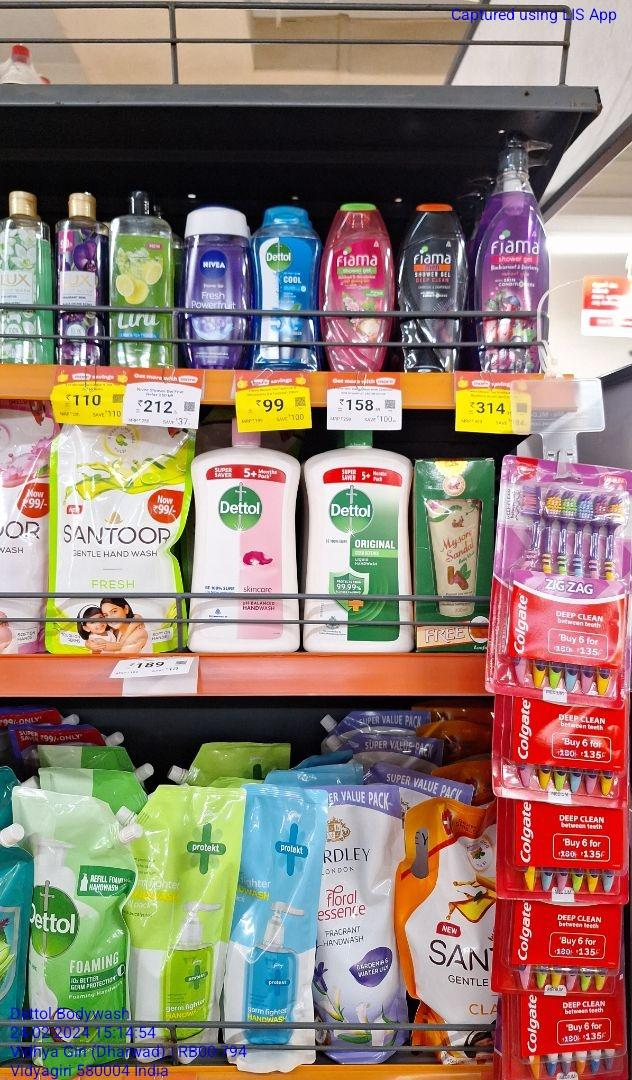Dettol_Bodywash_Cool: (256, 206, 320, 370)
Liril_Lime_and_Tea_Tree_Oil_Body_Wash_250ML: (116, 188, 174, 366)
Lux_Black_Orchid_Scent_and_Juniper_Oil_Body_Wash_245ML: (60, 191, 109, 365)
Lux_Body_Wash_Skin_Detox_Freesia_Scent_and_Alove_Vera_245ML: (0, 188, 54, 366)
Nivea_Shower_Gel_Fresh_Powerfruit_250ML: (186, 210, 249, 361)
